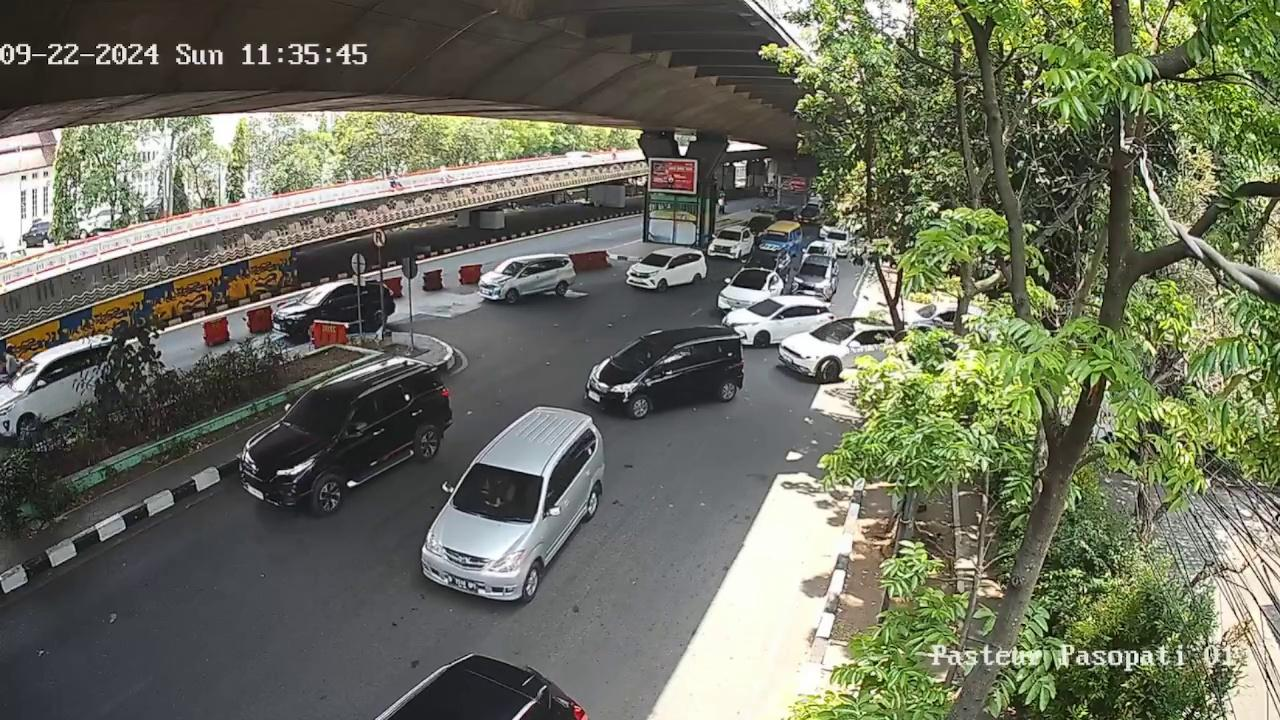tidak-pakai: (481, 472, 517, 505)
windshield: (451, 464, 542, 521), (283, 394, 353, 435), (613, 337, 663, 373), (730, 273, 770, 292), (749, 300, 780, 317), (639, 253, 673, 267)
